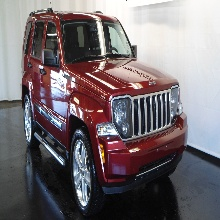no damage: (22, 11, 189, 215)
